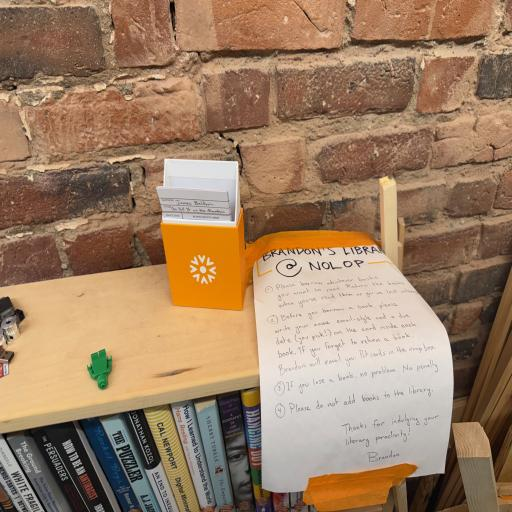Lego-Dude: (87, 349, 112, 389)
